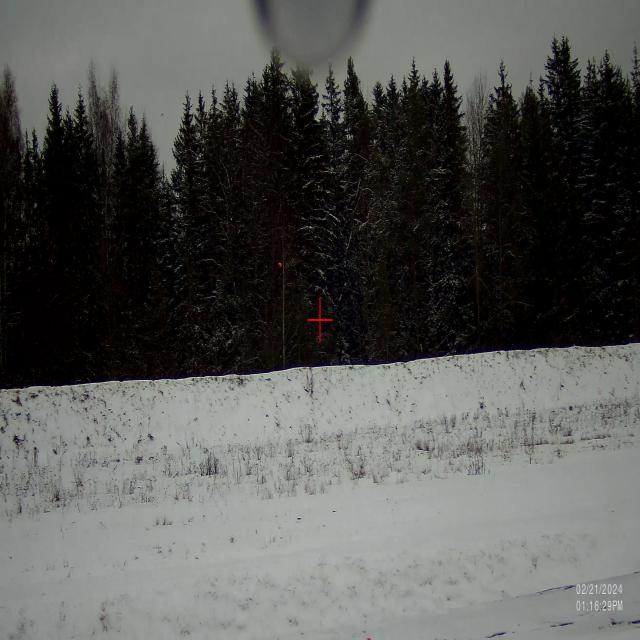entire: (274, 254, 288, 272)
